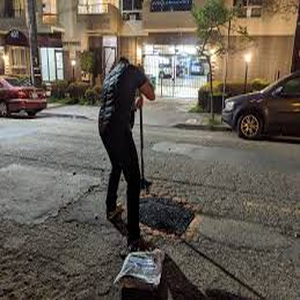pothole: (134, 199, 196, 239)
